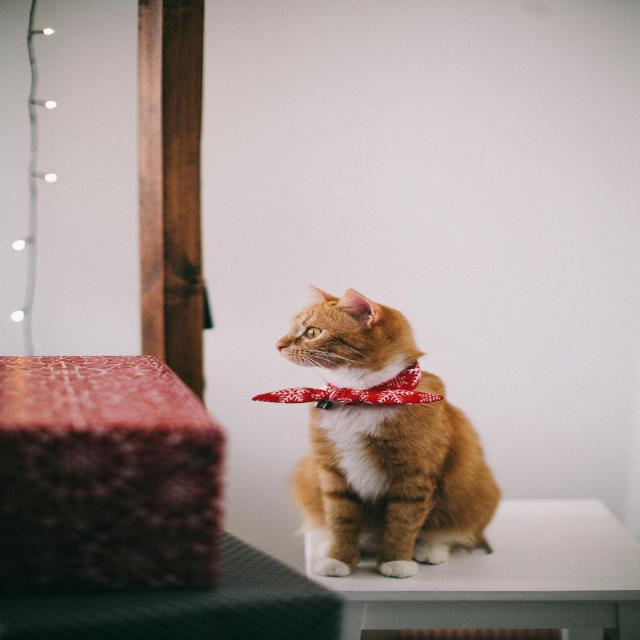Cat: (273, 284, 502, 578)
